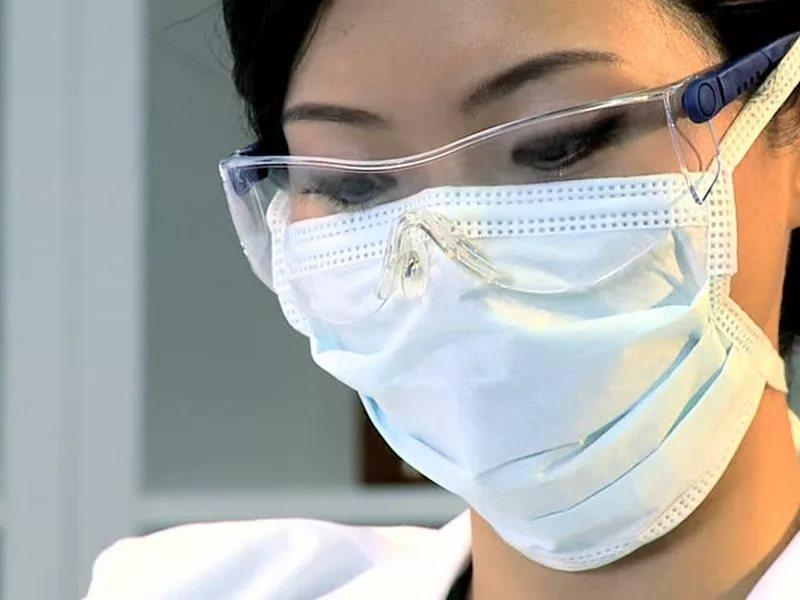mask: (282, 68, 772, 568)
